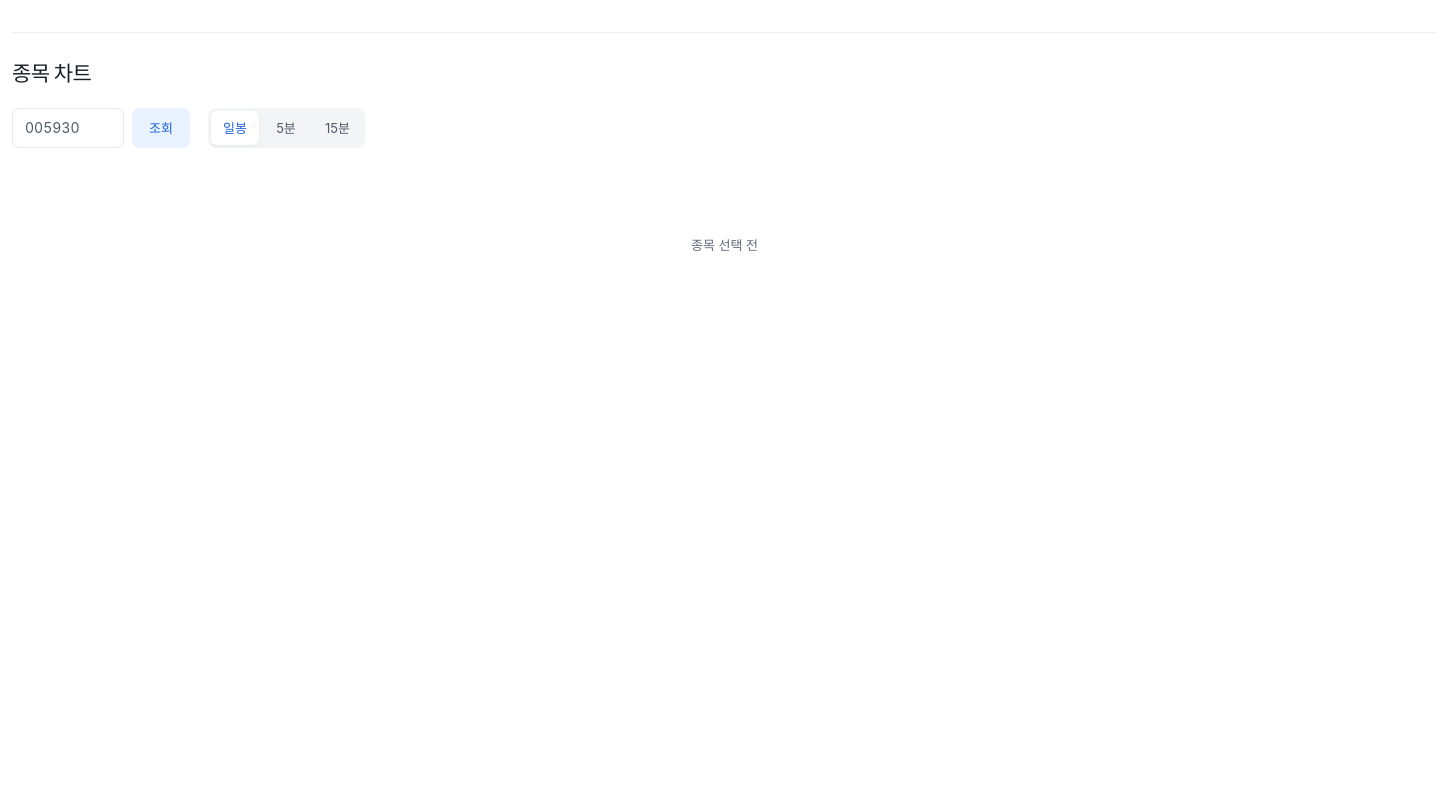
Test case: stock chart › accepts a lowercase alphanumeric stock code and queries its uppercase identity
The image size is (1452, 810).
Replace the text in the field named "차트 종목코드" with "0126z0" at (68, 128), box [12,108,124,148]
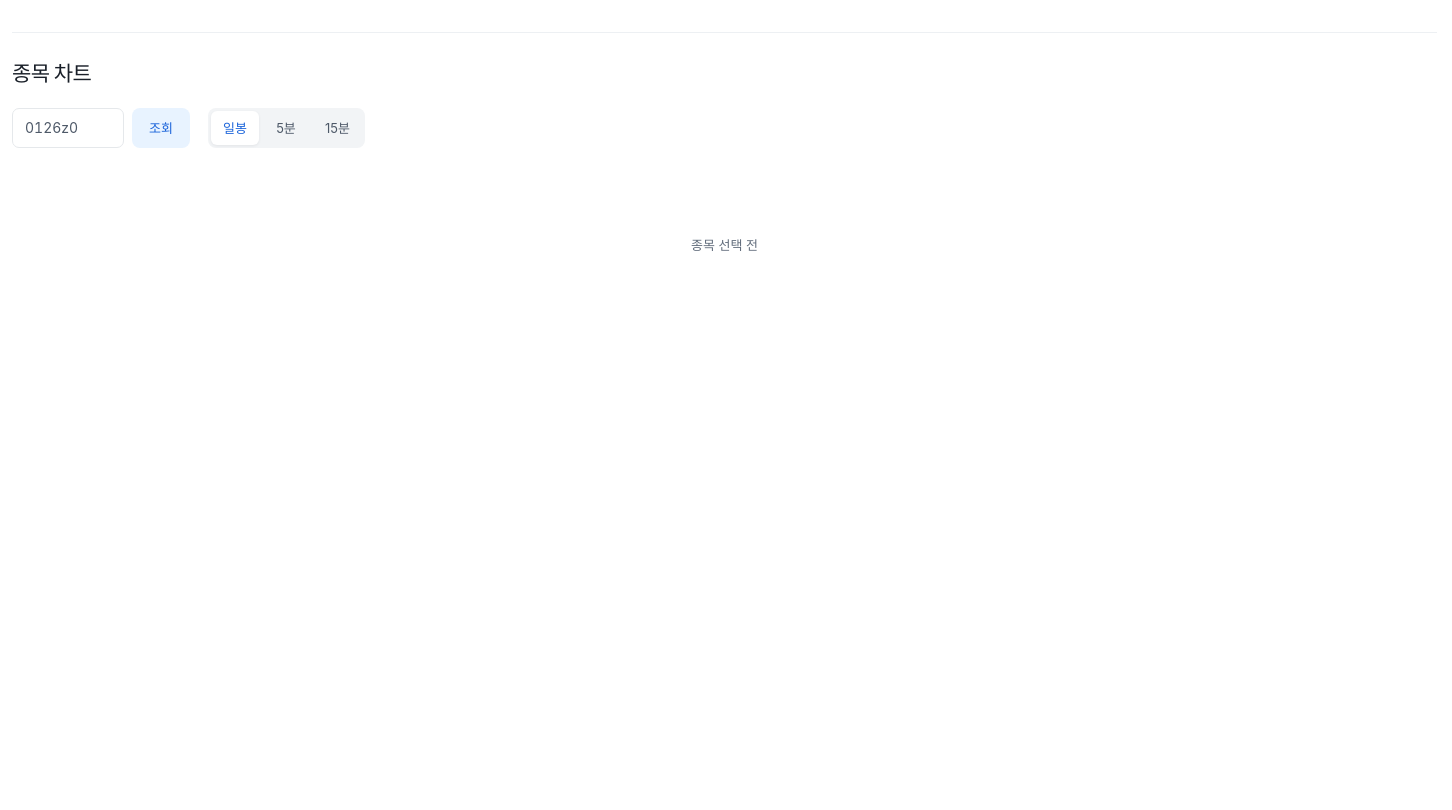
Click the button with aria-label "종목 차트 조회" at (161, 128), box [132,108,190,148]
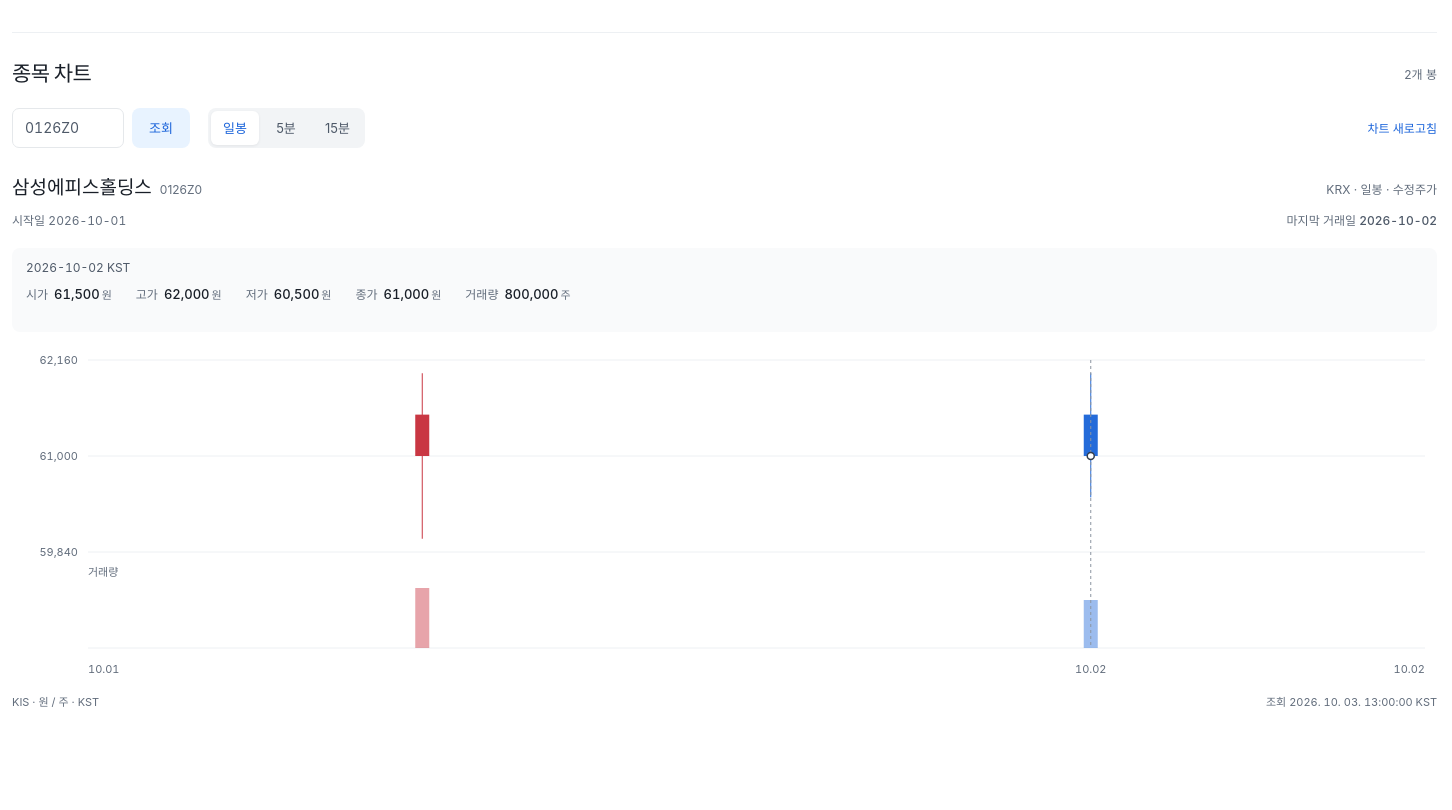
Result: the slider named "삼성에피스홀딩스 일봉 차트" is shown at [12,344,1437,682]
